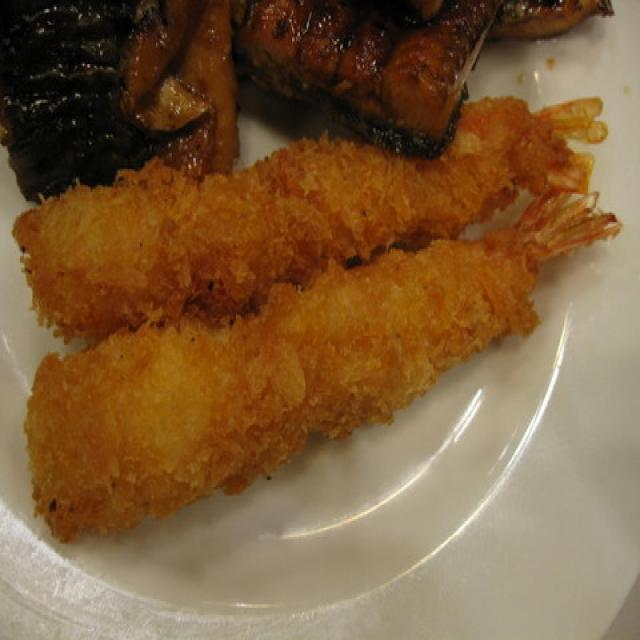炸货点心: (8, 101, 609, 539)
熟制海鲜: (8, 101, 609, 539)
